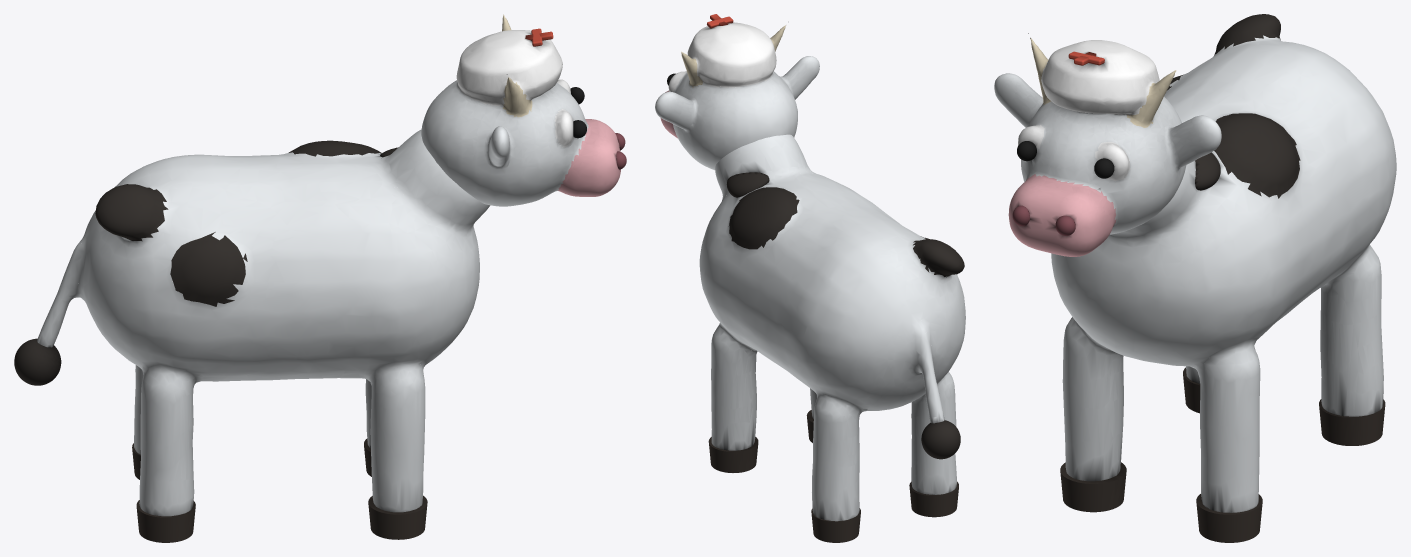
Rendered from jag-ar-allergisk-mot-penicillin.glb.
3 renders of one model, left to right at view 1: azimuth 30°, elevation 25°; view 2: azimuth 150°, elevation 25°; view 3: azimuth 270°, elevation 25°, orthographic. The views are drawn at different scales.
Visible parts, largest first — view 1: vaca__r0, cabeca__r0, vaca__r3, vaca__r6, vaca__r5; view 2: vaca__r0, cabeca__r0, vaca__r3, vaca__r2, vaca__r5, vaca__r1, vaca__r4; view 3: vaca__r0, cabeca__r0, vaca__r6, vaca__r2, vaca__r1, vaca__r4, vaca__r5.
Part boxes in pixels (x1,y1,x2,y2): vaca__r0: (37,129,490,516); cabeca__r0: (421,14,620,206); vaca__r3: (14,338,61,385); vaca__r6: (368,495,427,539); vaca__r5: (136,500,195,542); vaca__r0: (699,134,965,521); cabeca__r0: (655,22,819,170); vaca__r3: (921,420,960,459); vaca__r2: (708,437,758,472); vaca__r5: (909,481,958,517); vaca__r1: (811,508,860,542); vaca__r4: (726,172,769,197); vaca__r0: (1051,14,1396,512); cabeca__r0: (994,33,1221,256); vaca__r6: (1060,462,1126,512); vaca__r2: (1196,494,1262,542); vaca__r1: (1319,399,1385,445); vaca__r4: (1195,152,1220,190); vaca__r5: (1183,367,1200,413).
Size of the model in its own units: 1.53 by 1.41 by 0.9908.
